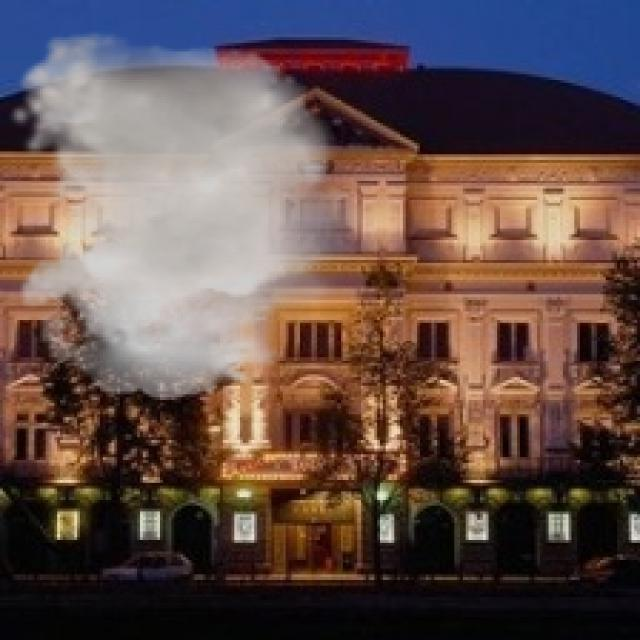Smoke: (6, 31, 383, 400)
